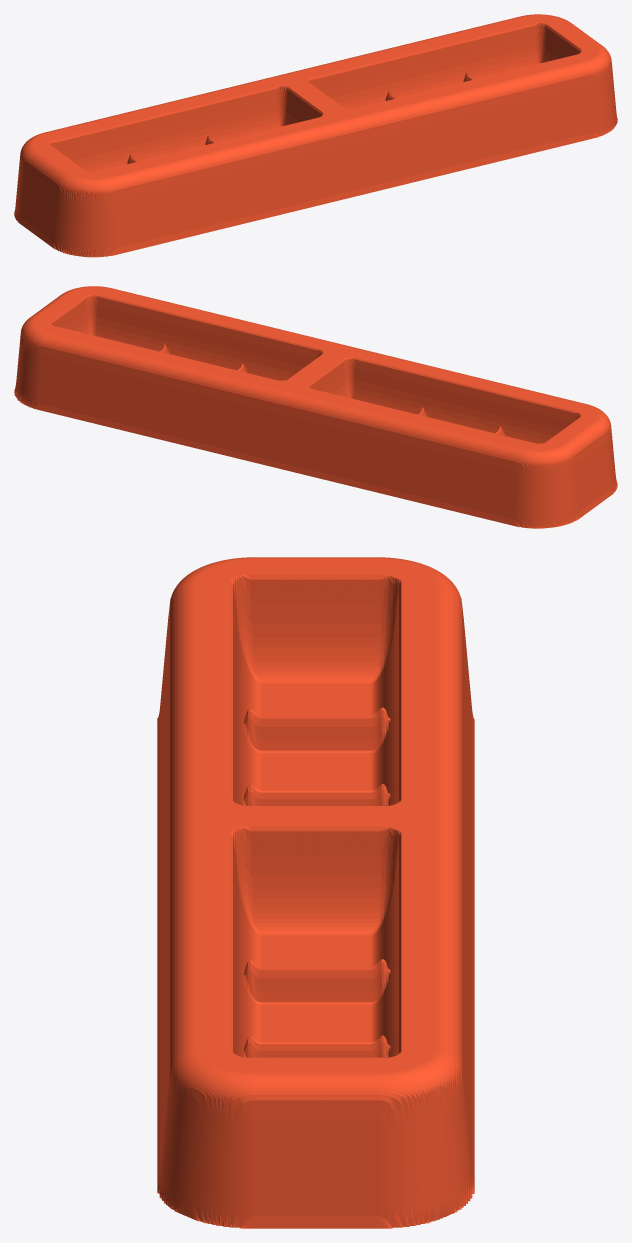
Rendered from mold.glb.
3 views of the same model, one above another, from view 1: azimuth 30°, elevation 25°; view 2: azimuth 150°, elevation 25°; view 3: azimuth 270°, elevation 25° (orthographic). The views are drawn at different scales.
Visible parts, largest first — view 1: geometry_0; view 2: geometry_0; view 3: geometry_0.
Boxes of the visible parts, x1=… form: geometry_0: x1=14, y1=14, x2=617, y2=257; geometry_0: x1=14, y1=286, x2=617, y2=528; geometry_0: x1=157, y1=557, x2=474, y2=1228.
Size of the model in its own units: 0.1211 by 0.0145 by 0.0298.
